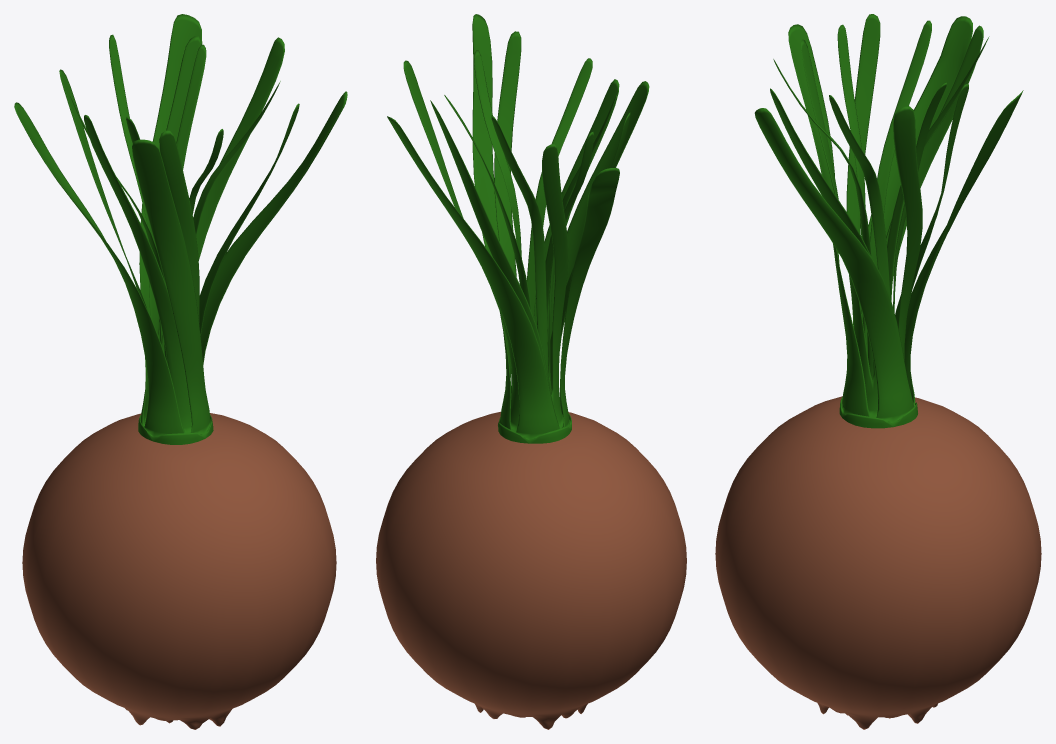
Rendered from Cebola.gltf.
3 renders of one model, left to right at view 1: azimuth 30°, elevation 25°; view 2: azimuth 150°, elevation 25°; view 3: azimuth 270°, elevation 25°, orthographic. The views are drawn at different scales.
Visible parts, largest first — view 1: Onion, Onion Leek; view 2: Onion, Onion Leek; view 3: Onion, Onion Leek.
Boxes of the visible parts, x1=… form: Onion: x1=22, y1=413, x2=336, y2=729; Onion Leek: x1=14, y1=14, x2=347, y2=444; Onion: x1=376, y1=411, x2=686, y2=729; Onion Leek: x1=387, y1=14, x2=649, y2=443; Onion: x1=715, y1=396, x2=1041, y2=729; Onion Leek: x1=754, y1=14, x2=1023, y2=428.
Size of the model in its own units: 0.2458 by 0.5527 by 0.2458.
